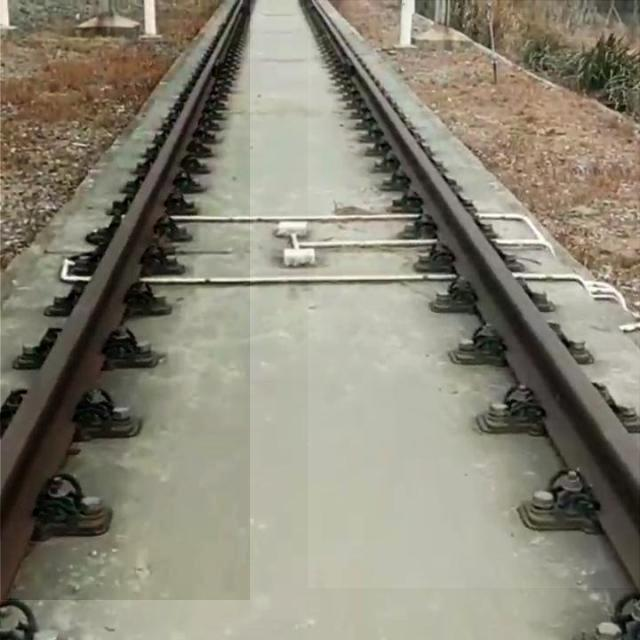rail: (310, 2, 640, 589), (2, 1, 251, 601)
